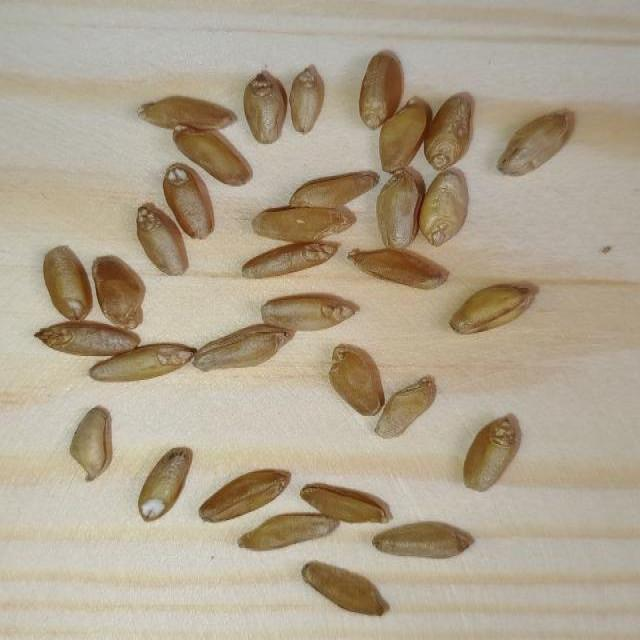wheat_grain: (496, 108, 573, 176), (198, 468, 290, 522), (191, 323, 293, 371), (175, 124, 250, 188), (302, 560, 387, 615), (449, 281, 535, 334), (347, 246, 449, 290), (463, 414, 519, 490), (90, 341, 194, 381), (377, 97, 430, 174), (238, 511, 341, 550), (328, 343, 383, 416), (419, 167, 469, 247), (137, 447, 191, 521), (422, 93, 473, 171), (375, 168, 424, 249), (91, 255, 144, 329), (374, 376, 437, 438), (371, 520, 473, 558), (241, 239, 340, 278), (251, 205, 355, 242), (300, 482, 391, 524), (260, 292, 358, 331), (42, 246, 92, 322), (162, 164, 212, 239), (135, 204, 187, 275), (289, 169, 380, 209), (138, 95, 238, 131), (36, 321, 137, 355), (358, 50, 401, 129), (243, 70, 287, 143), (70, 406, 111, 481), (289, 64, 324, 132)
